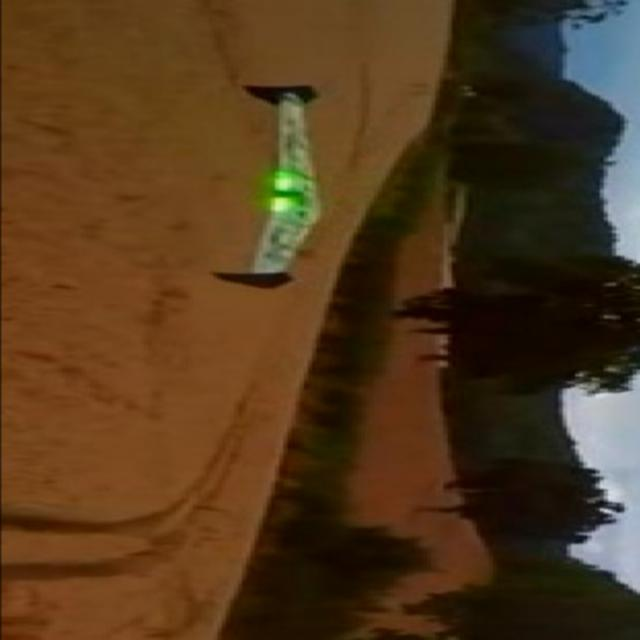plane: (212, 81, 326, 290)
